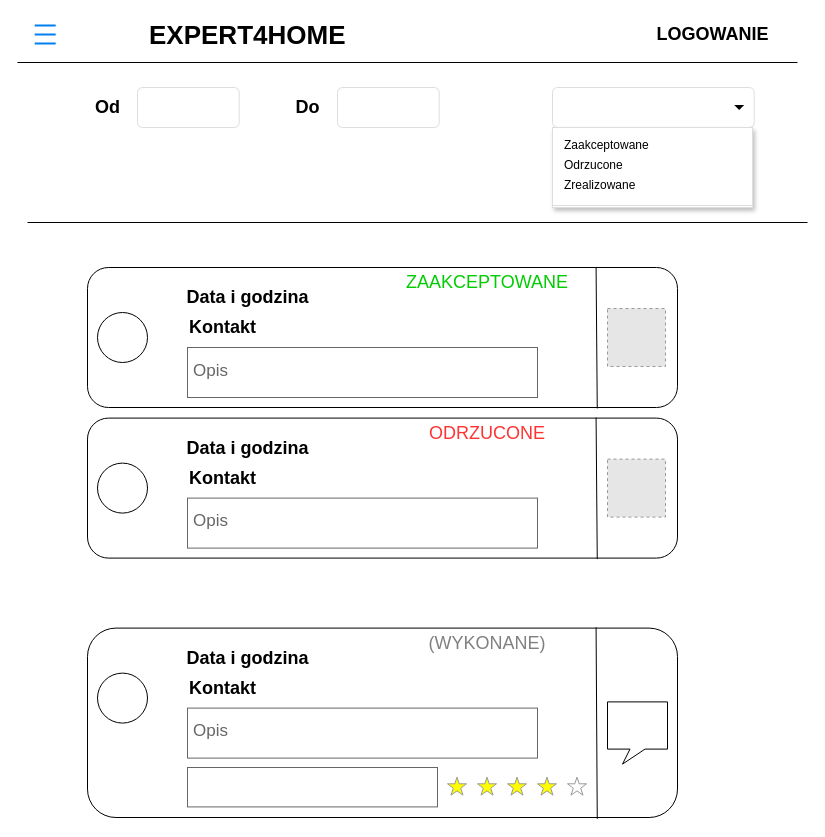
Some shapes in this 825 by 837 pixel diagram are drawn without their labels. Grey dashed boxes stand in for pictures. The shapes that lost their labels are listed below. From the top down, each one's centre as x and y in pixels, then its label:
At pixel 637 732: "wyślij".
At pixel 312 786: "Komentarz".
